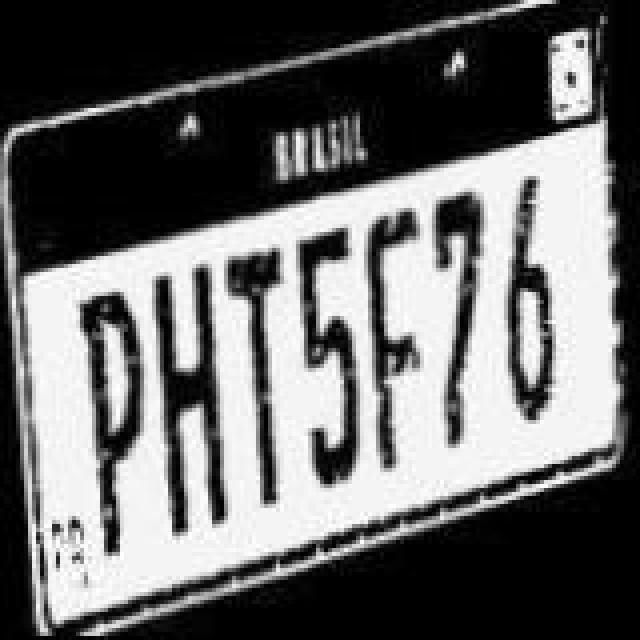5: (292, 222, 368, 478)
6: (500, 186, 568, 422)
7: (430, 192, 494, 432)
F: (360, 212, 428, 468)
H: (146, 262, 238, 530)
P: (76, 284, 156, 564)
T: (224, 244, 296, 520)
